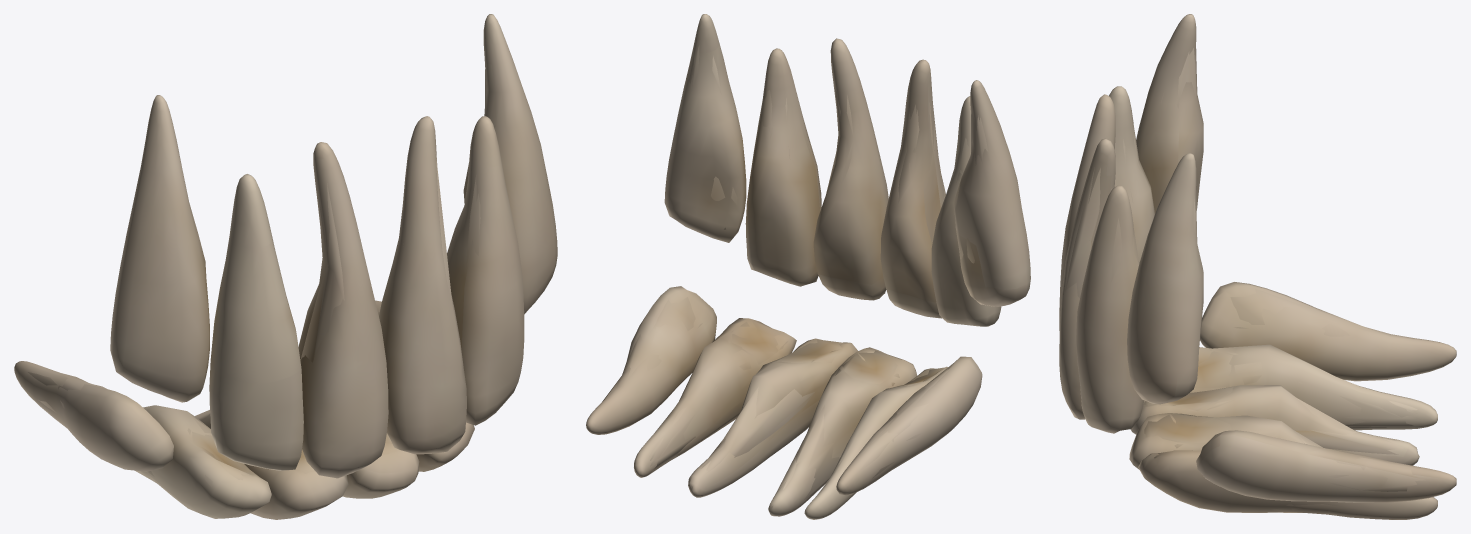
The model's file is Teeth Incisor.fbx.
The picture shows the model from 3 angles, left to right: view 1: azimuth 30°, elevation 25°; view 2: azimuth 150°, elevation 25°; view 3: azimuth 270°, elevation 25°; orthographic projection. The views are drawn at different scales.
Parts seen in each view (by area): view 1: Teeth Incisor, Teeth Incisor low; view 2: Teeth Incisor, Teeth Incisor low; view 3: Teeth Incisor, Teeth Incisor low.
Part boxes in pixels (x1,y1,x2,y2): Teeth Incisor: [14, 14, 557, 519]; Teeth Incisor low: [28, 69, 495, 487]; Teeth Incisor: [586, 14, 1030, 519]; Teeth Incisor low: [602, 45, 988, 508]; Teeth Incisor: [1059, 14, 1456, 519]; Teeth Incisor low: [1065, 48, 1425, 515].
Size of the model in its own units: 7.68 by 7.94 by 6.99.
Materials: 1 (1 with a texture image).
